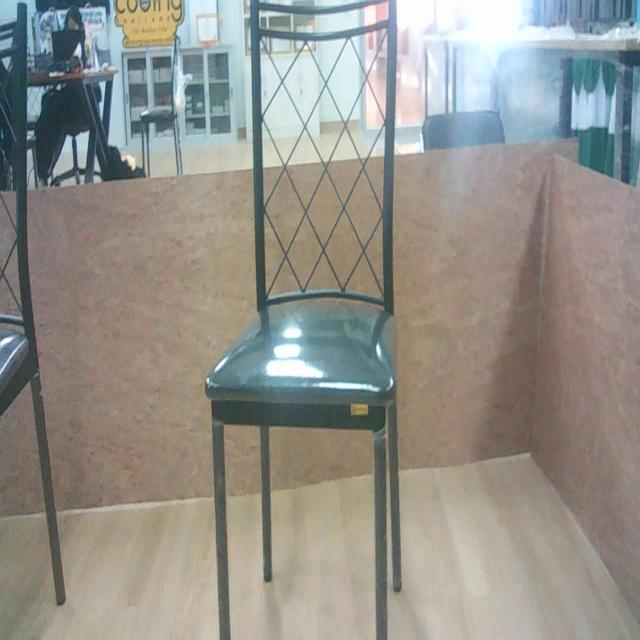emtpy: (209, 8, 402, 640)
